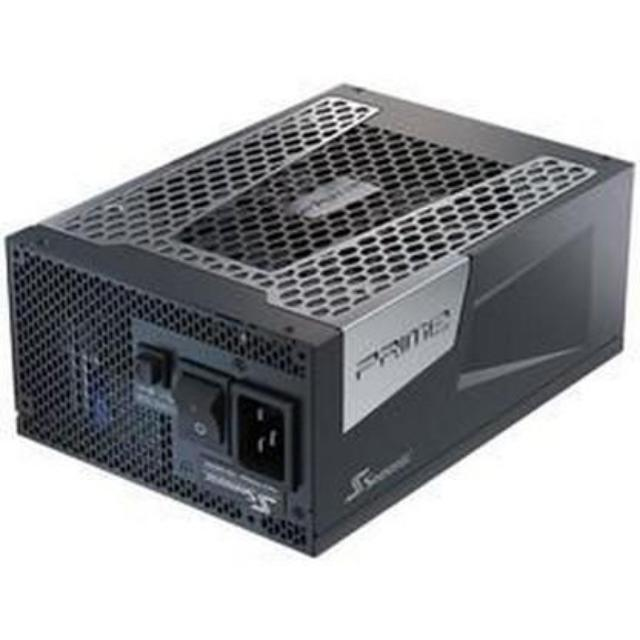PSU: (0, 56, 640, 562)
